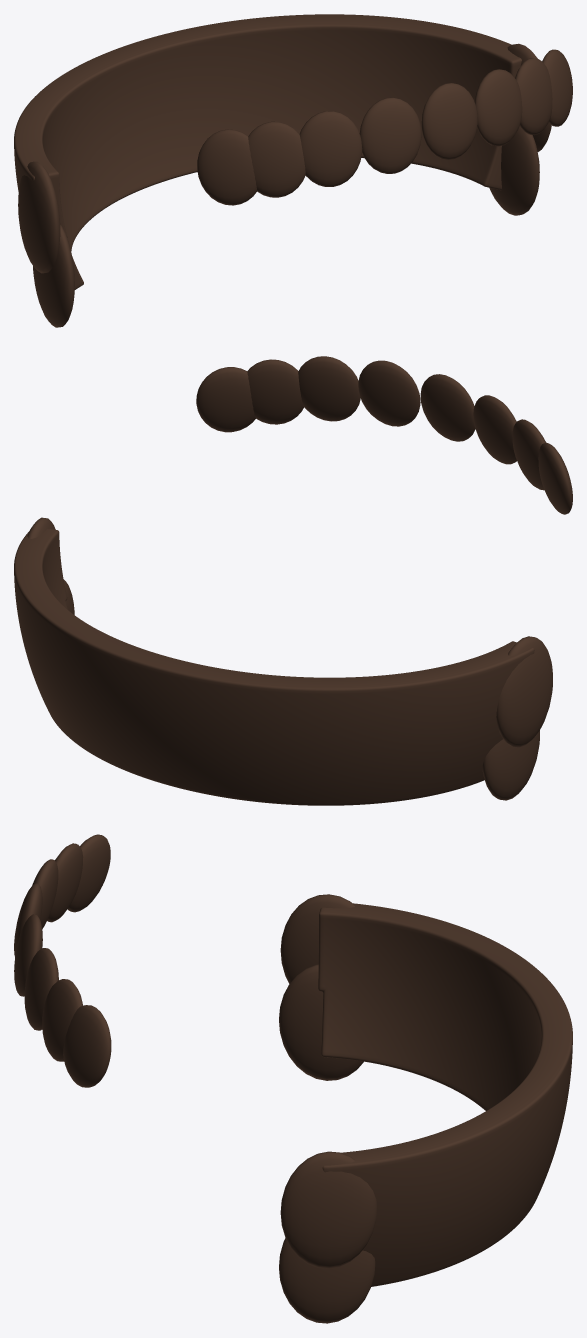
Rendered from hair-capped.glb.
3 views of the same model, one above another, from view 1: azimuth 30°, elevation 25°; view 2: azimuth 150°, elevation 25°; view 3: azimuth 270°, elevation 25° (orthographic). The views are drawn at different scales.
Parts seen in each view (by area): view 1: Hair nape, Hair fringe 2, Hair fringe 3, Hair side, Hair fringe 0, Hair fringe 1, Hair fringe 4, Hair fringe 5, Hair side.003, Hair side.001, Hair fringe 6, Hair fringe 7 (+1 smaller); view 2: Hair nape, Hair side, Hair fringe 5, Hair fringe 4, Hair fringe 7, Hair fringe 6, Hair fringe 3, Hair side.001, Hair fringe 2, Hair fringe 0, Hair fringe 1; view 3: Hair nape, Hair side.002, Hair side.003, Hair side.001, Hair fringe 7, Hair side, Hair fringe 6, Hair fringe 0, Hair fringe 5, Hair fringe 1, Hair fringe 4, Hair fringe 2 (+1 smaller).
Boxes of the visible parts, <box> form: Hair nape: <box>14,14,521,289</box>; Hair fringe 2: <box>299,111,362,186</box>; Hair fringe 3: <box>359,97,421,173</box>; Hair side: <box>18,161,60,273</box>; Hair fringe 0: <box>197,129,256,205</box>; Hair fringe 1: <box>248,121,305,197</box>; Hair fringe 4: <box>421,83,477,159</box>; Hair fringe 5: <box>474,69,522,146</box>; Hair side.003: <box>489,126,539,215</box>; Hair side.001: <box>33,225,74,327</box>; Hair fringe 6: <box>515,58,552,135</box>; Hair fringe 7: <box>542,49,572,126</box>; Hair nape: <box>14,528,534,805</box>; Hair side: <box>496,636,552,747</box>; Hair fringe 5: <box>298,356,360,421</box>; Hair fringe 4: <box>358,360,420,426</box>; Hair fringe 7: <box>196,367,255,432</box>; Hair fringe 6: <box>247,359,303,424</box>; Hair fringe 3: <box>420,374,475,441</box>; Hair side.001: <box>482,730,539,800</box>; Hair fringe 2: <box>473,395,516,464</box>; Hair fringe 0: <box>538,442,572,514</box>; Hair fringe 1: <box>512,419,545,490</box>; Hair nape: <box>318,903,572,1286</box>; Hair side.002: <box>280,1151,376,1268</box>; Hair side.003: <box>279,1238,375,1323</box>; Hair side.001: <box>279,964,363,1080</box>; Hair fringe 7: <box>63,1005,111,1087</box>; Hair side: <box>280,894,355,983</box>; Hair fringe 6: <box>42,979,82,1061</box>; Hair fringe 0: <box>67,834,110,912</box>; Hair fringe 5: <box>24,948,58,1030</box>; Hair fringe 1: <box>47,843,83,922</box>; Hair fringe 4: <box>14,914,42,996</box>; Hair fringe 2: <box>32,859,58,928</box>.
Bounding box in the file's own units: 0.4925 × 0.2547 × 0.43.
